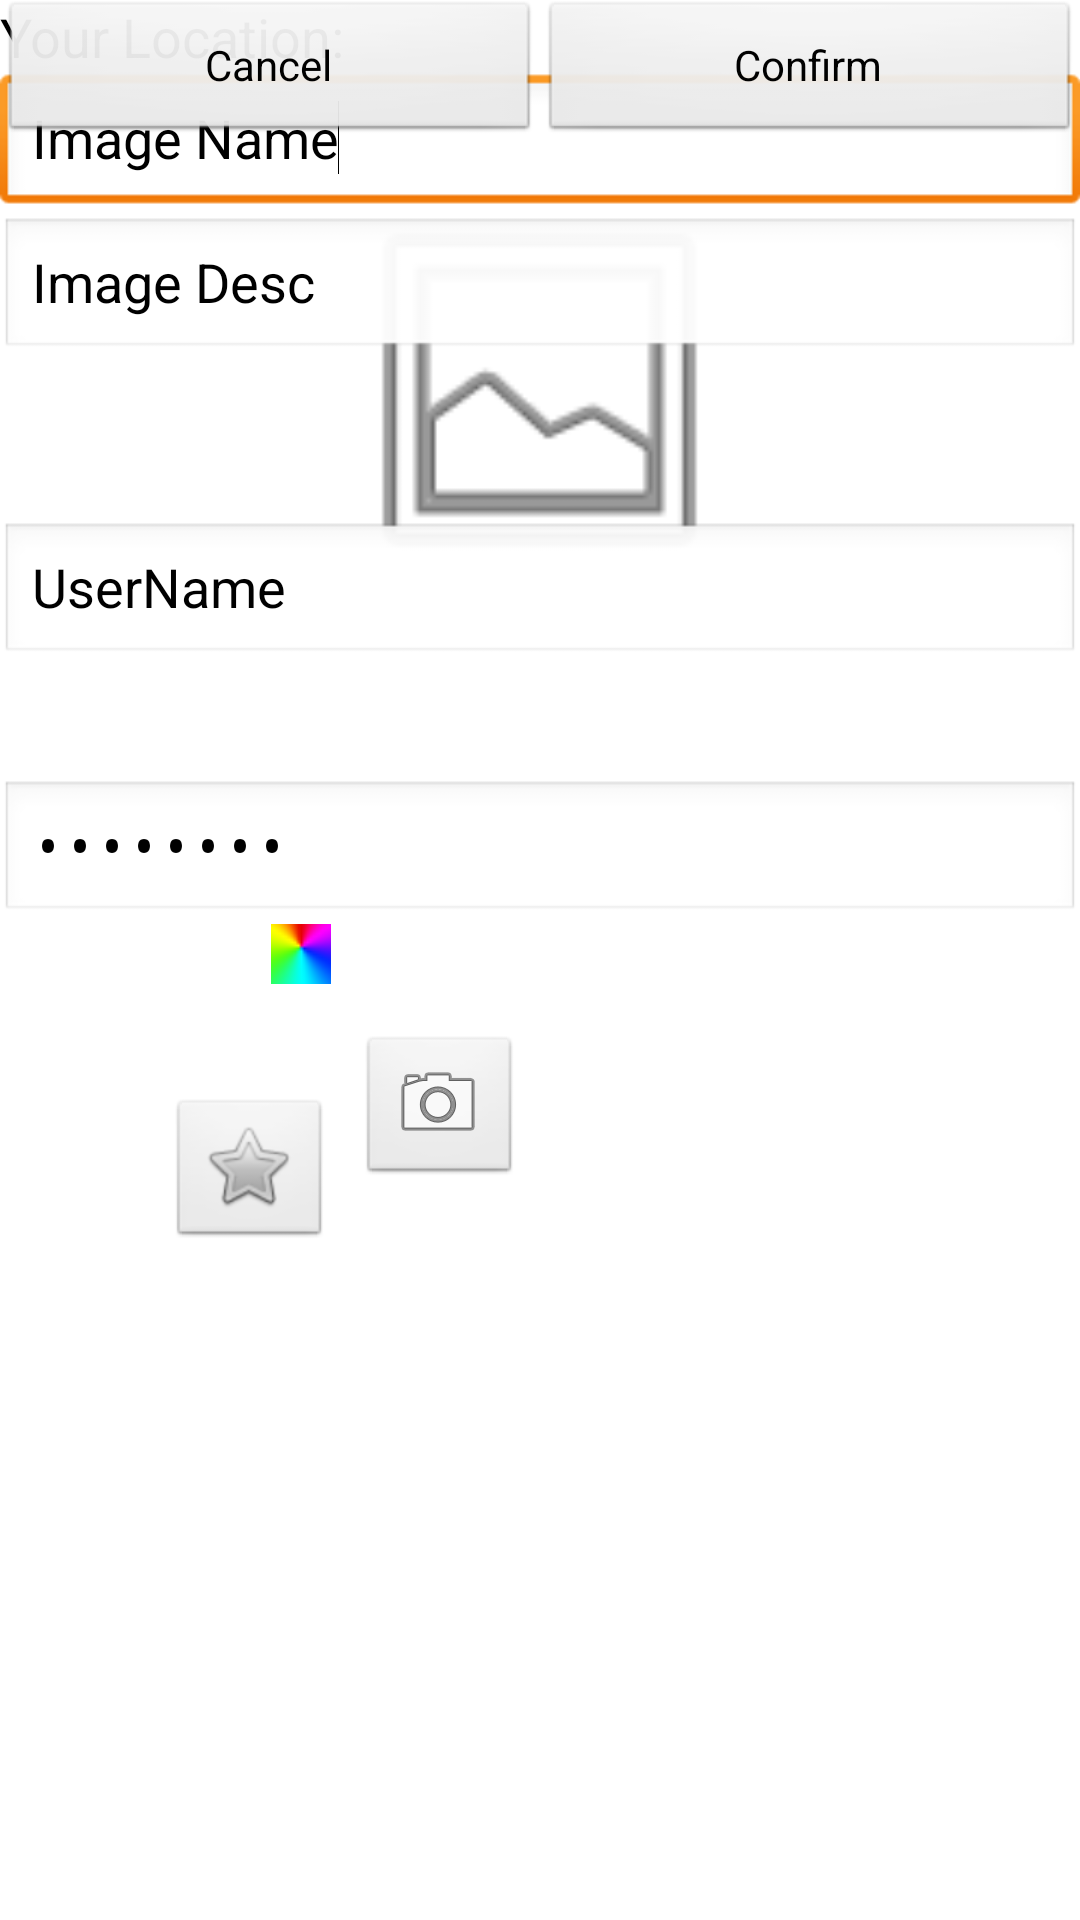

Where icons sit on this 1080w x 1920h app screen, as (x1,y1,x2,y2):
camera: (366,1037,513,1174)
star: (176,1100,323,1237)
